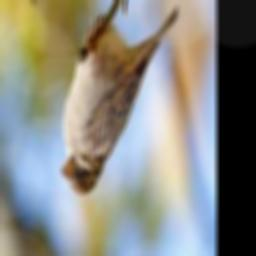Sparrow: (60, 3, 178, 197)
